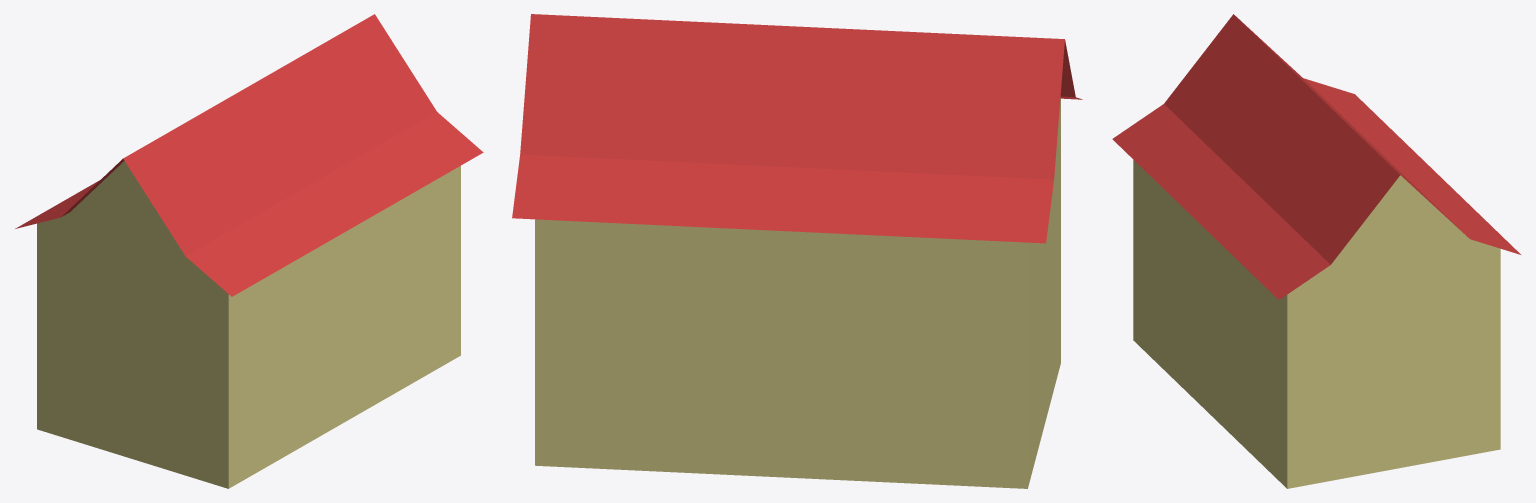
3 renders of one model, left to right at view 1: azimuth 30°, elevation 25°; view 2: azimuth 150°, elevation 25°; view 3: azimuth 270°, elevation 25°, orthographic. The views are drawn at different scales.
Size of the model in its own units: 22.87 by 19.21 by 15.54.
